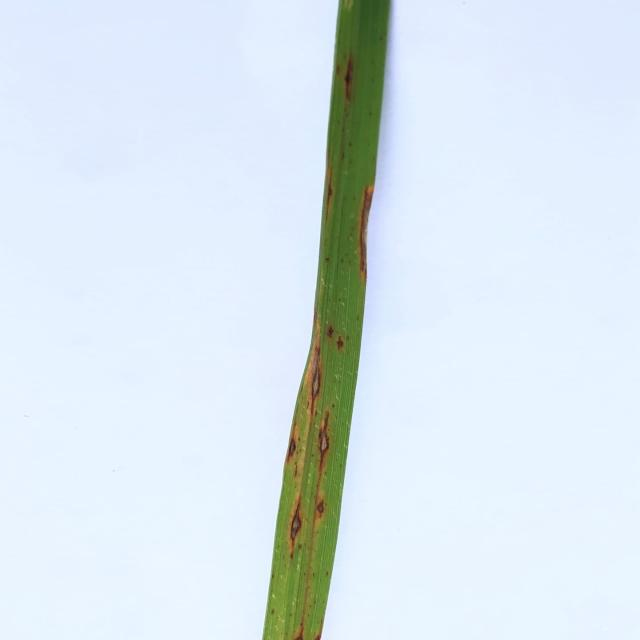leaf blast: (355, 183, 375, 275), (313, 415, 337, 473), (288, 492, 306, 556), (305, 358, 328, 408), (340, 49, 358, 104), (320, 168, 336, 227), (314, 491, 330, 528), (291, 617, 309, 640)
